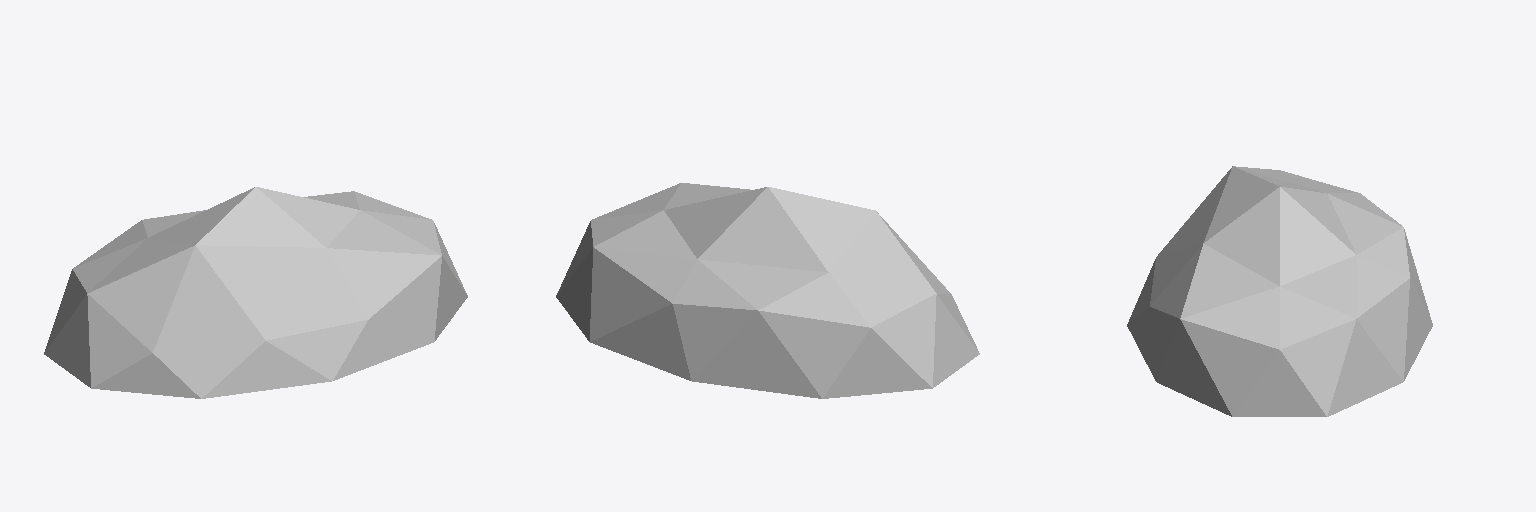
The model's file is Steine2.obj.
3 views of the same model, side by side, from view 1: azimuth 30°, elevation 25°; view 2: azimuth 150°, elevation 25°; view 3: azimuth 270°, elevation 25° (orthographic).
Parts seen in each view (by area): view 1: Icosphere; view 2: Icosphere; view 3: Icosphere.
Part boxes in pixels (x1,y1,x2,y2): Icosphere: (44,187,467,398); Icosphere: (556,183,979,398); Icosphere: (1127,166,1432,416).
Size of the model in its own units: 2.84 by 1 by 2.